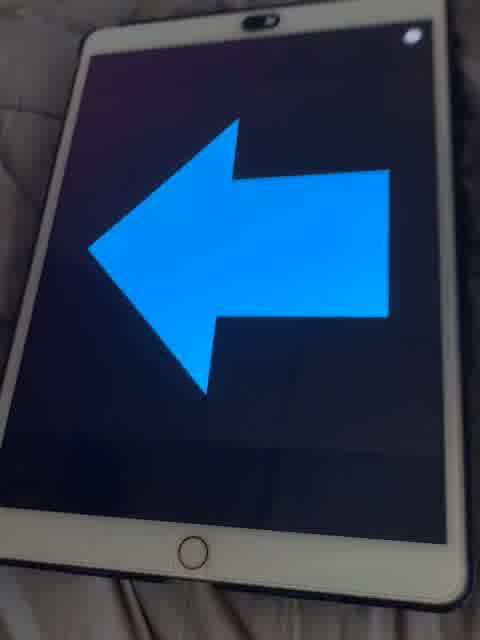left: (76, 109, 387, 402)
